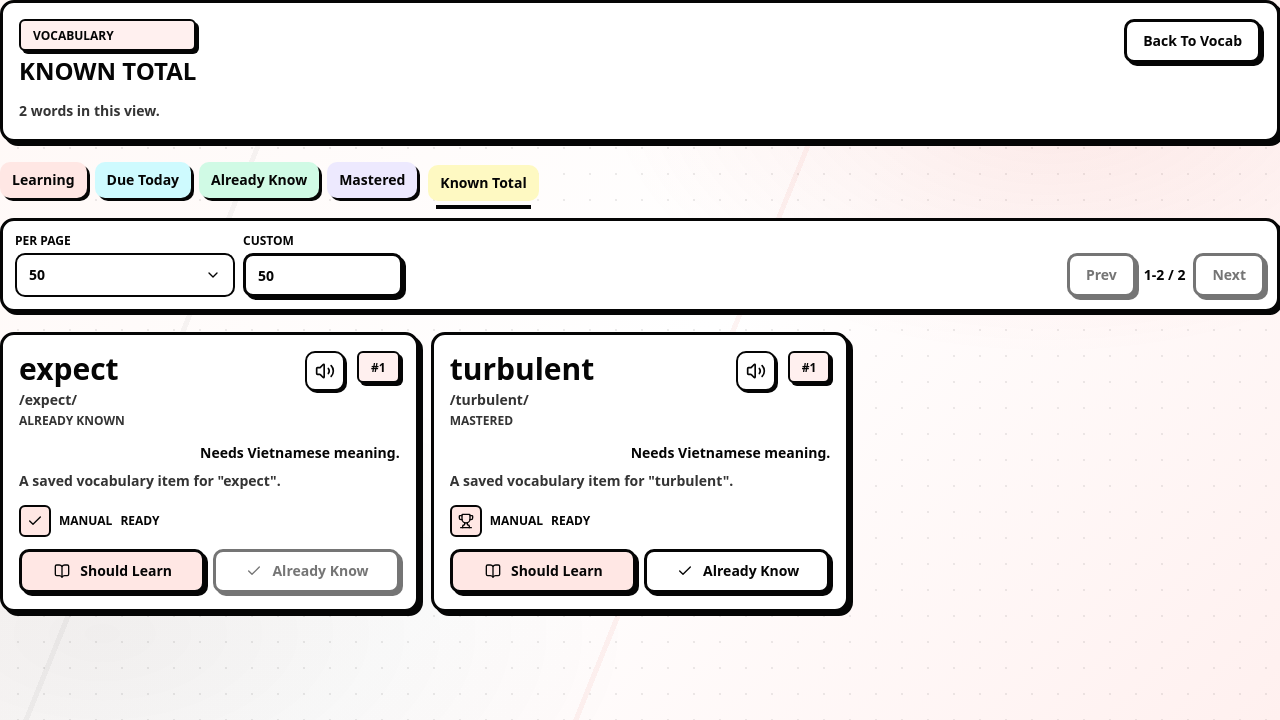
Test: VocabularyWordList › a rollback to a saved state puts the row back where it was
Click the button "Already Know" below "A saved vocabulary item for \"turbulent\".": (737, 570) [644,548,830,592]
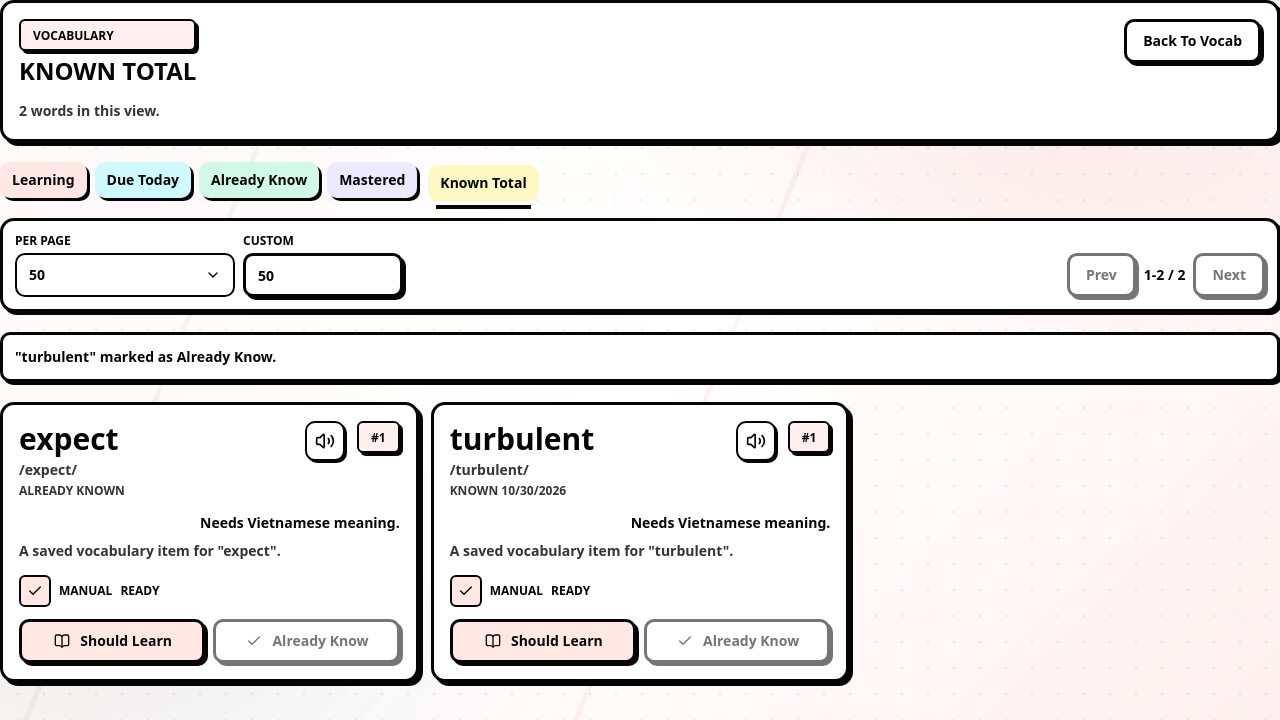
Click the button "Should Learn" below "A saved vocabulary item for \"turbulent\".": (543, 640) [450,618,636,662]
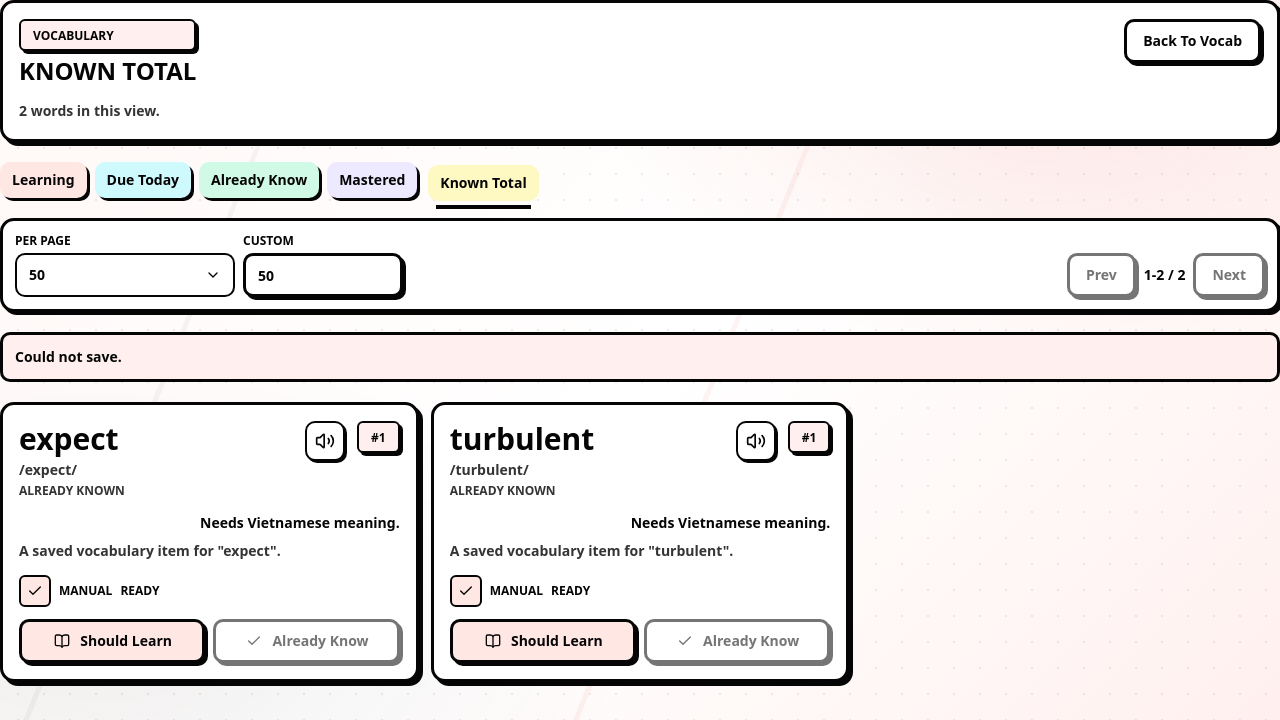
Now the text "Could not save." is shown, box [0,332,1279,382]
